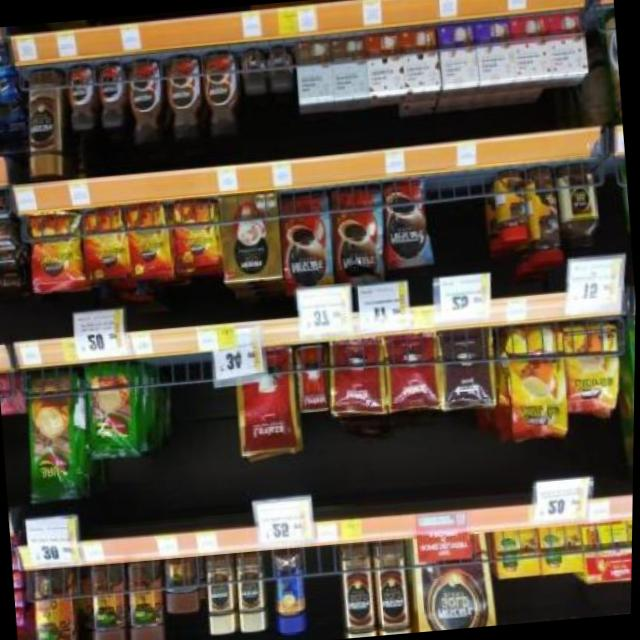Coffee: (329, 186, 388, 284), (279, 190, 336, 286), (23, 68, 65, 176), (381, 178, 430, 266), (31, 211, 86, 289), (125, 56, 166, 145), (163, 56, 206, 140), (200, 51, 242, 137), (376, 540, 413, 635), (343, 544, 378, 638), (206, 552, 239, 634), (236, 553, 268, 632), (95, 60, 129, 126), (64, 64, 98, 128), (267, 46, 296, 88), (241, 49, 268, 89)
